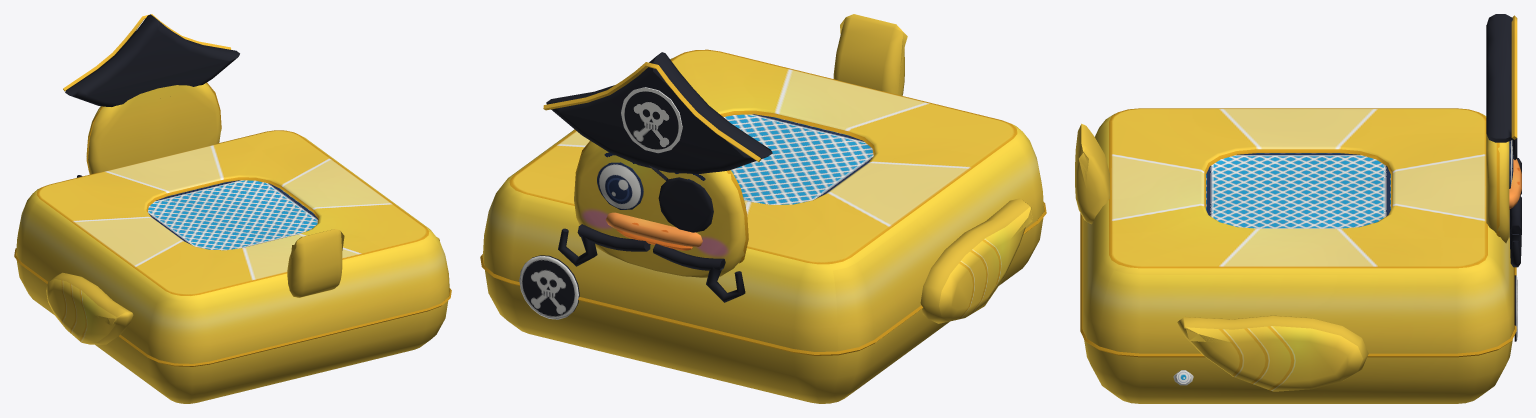
File: pool_duck_ring_pirate.glb
3 views of the same model, side by side, from view 1: azimuth 30°, elevation 25°; view 2: azimuth 150°, elevation 25°; view 3: azimuth 270°, elevation 25° (orthographic). The views are drawn at different scales.
Visible parts, largest first — view 1: pool_duck_ring_pirate_LOD0; view 2: pool_duck_ring_pirate_LOD0; view 3: pool_duck_ring_pirate_LOD0.
Boxes of the visible parts, box(x1,y1,x2,y2) form: pool_duck_ring_pirate_LOD0: box(14, 14, 451, 403); pool_duck_ring_pirate_LOD0: box(480, 14, 1046, 403); pool_duck_ring_pirate_LOD0: box(1075, 14, 1521, 403).
Size of the model in its own units: 15 by 11 by 14.
1 material, 1 textured.
